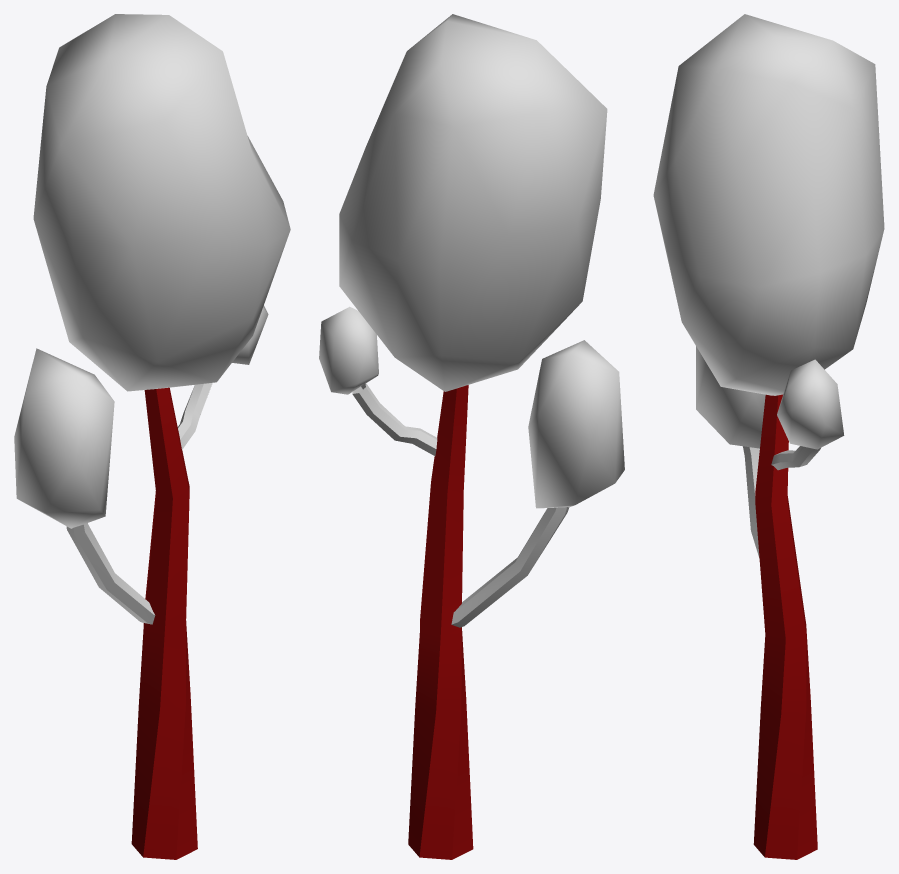
Rendered from LargeBirch_low.fbx.
3 views of the same model, side by side, from view 1: azimuth 30°, elevation 25°; view 2: azimuth 150°, elevation 25°; view 3: azimuth 270°, elevation 25° (orthographic). The views are drawn at different scales.
Visible parts, largest first — view 1: Large_LeafTwo_Birch_low, Small_Truck_Birch_low, Small_LeafsOne_Birch_low, Small_Branch_Birch_low, Small_BranchTwo_Birch_low, Small_LeafsThree_Birch_low; view 2: Large_LeafTwo_Birch_low, Small_Truck_Birch_low, Small_LeafsOne_Birch_low, Small_LeafsThree_Birch_low, Small_Branch_Birch_low, Small_BranchTwo_Birch_low; view 3: Large_LeafTwo_Birch_low, Small_Truck_Birch_low, Small_LeafsThree_Birch_low, Small_LeafsOne_Birch_low, Small_Branch_Birch_low, Small_BranchTwo_Birch_low.
Boxes of the visible parts, <box> form: Large_LeafTwo_Birch_low: <box>33,14,290,391</box>; Small_Truck_Birch_low: <box>131,387,197,859</box>; Small_LeafsOne_Birch_low: <box>14,348,114,528</box>; Small_Branch_Birch_low: <box>66,523,155,624</box>; Small_BranchTwo_Birch_low: <box>177,383,212,449</box>; Small_LeafsThree_Birch_low: <box>232,305,268,364</box>; Large_LeafTwo_Birch_low: <box>339,14,607,391</box>; Small_Truck_Birch_low: <box>408,385,473,859</box>; Small_LeafsOne_Birch_low: <box>528,340,624,508</box>; Small_LeafsThree_Birch_low: <box>319,306,378,394</box>; Small_Branch_Birch_low: <box>451,507,569,627</box>; Small_BranchTwo_Birch_low: <box>352,383,437,455</box>; Large_LeafTwo_Birch_low: <box>653,14,884,395</box>; Small_Truck_Birch_low: <box>753,394,817,859</box>; Small_LeafsThree_Birch_low: <box>777,359,844,449</box>; Small_LeafsOne_Birch_low: <box>696,346,765,448</box>; Small_Branch_Birch_low: <box>743,446,759,558</box>; Small_BranchTwo_Birch_low: <box>771,446,820,470</box>.
Size of the model in its own units: 35.22 by 104 by 26.99.
